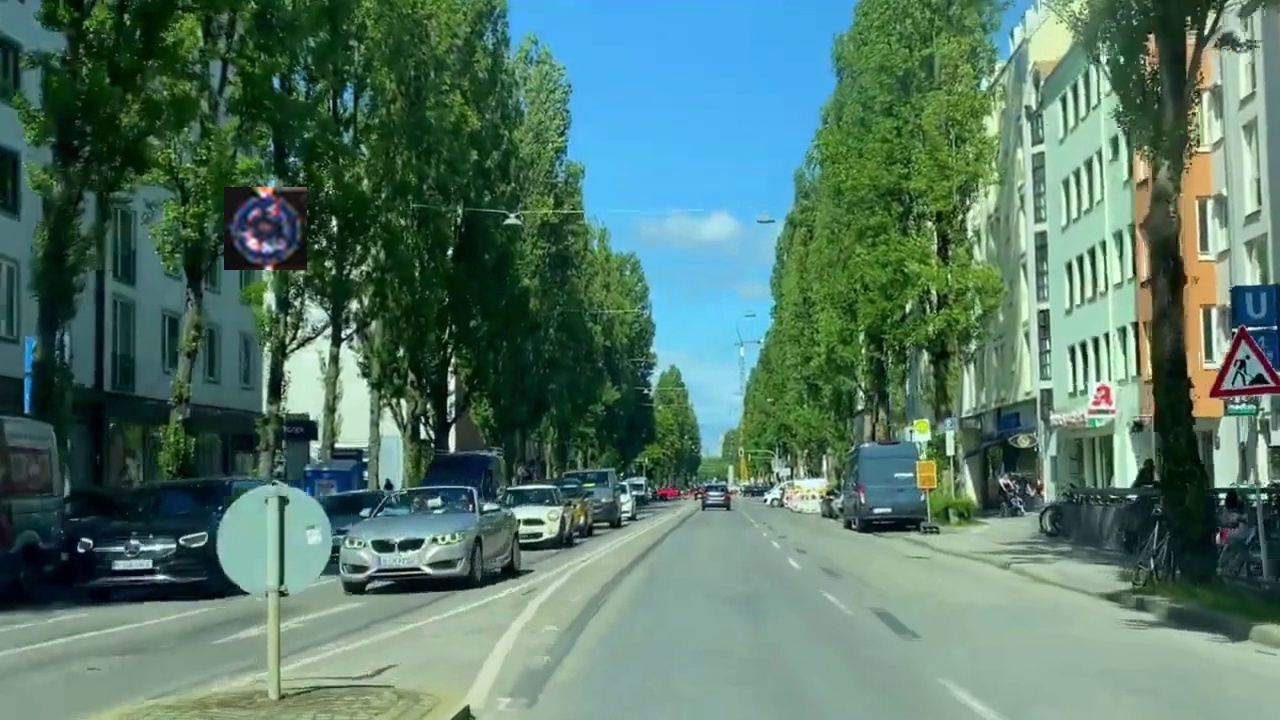Roundabout: (224, 187, 307, 270)
